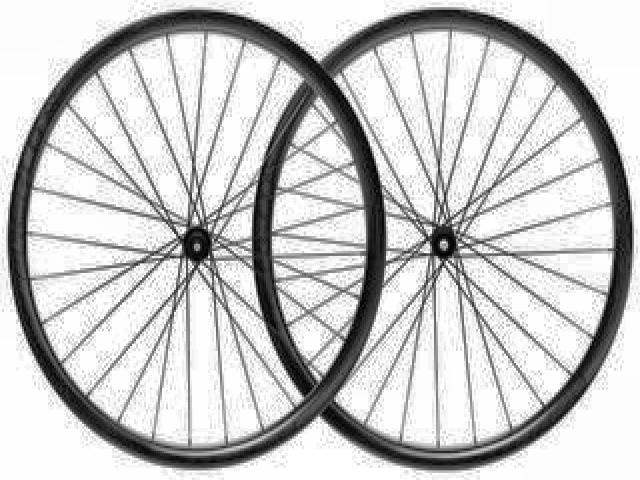wheel: (249, 0, 634, 476), (5, 5, 390, 474)
